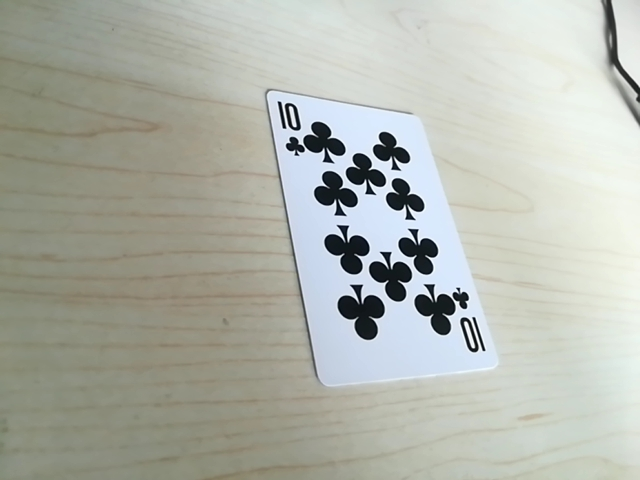mh 10: (270, 96, 315, 157), (451, 298, 486, 358)
